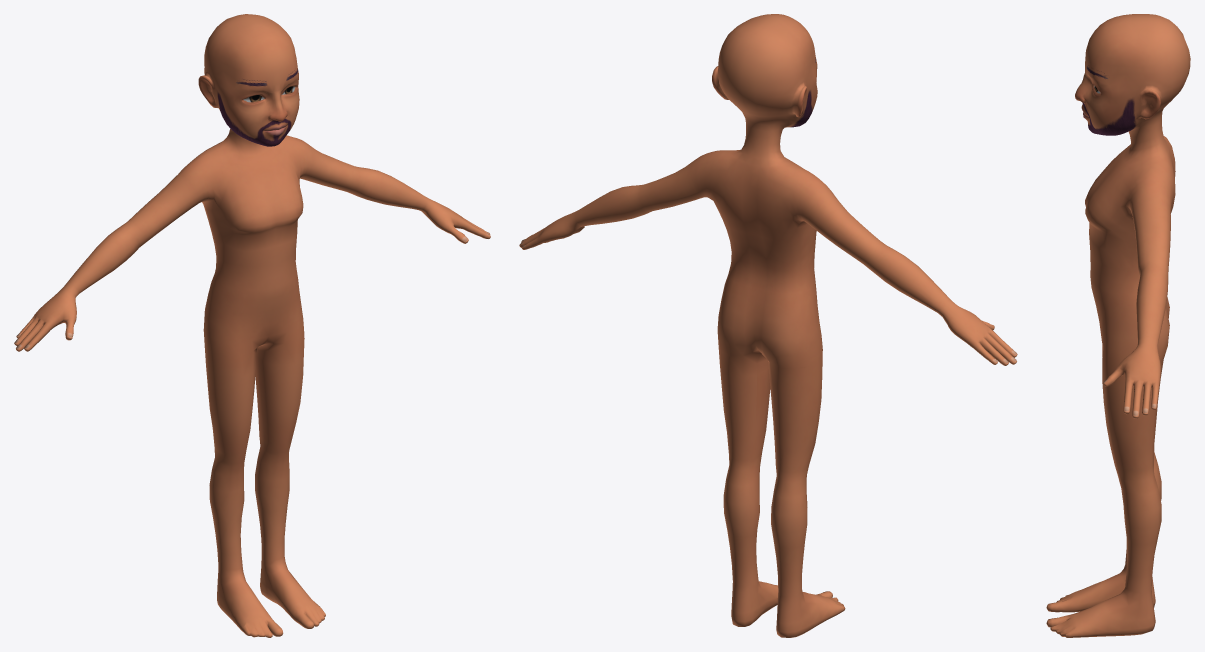
Rendered from frame_0044.glb.
3 renders of one model, left to right at view 1: azimuth 30°, elevation 25°; view 2: azimuth 150°, elevation 25°; view 3: azimuth 270°, elevation 25°, orthographic. The views are drawn at different scales.
Parts seen in each view (by area): view 1: frame_0044_head_geo; view 2: frame_0044_head_geo; view 3: frame_0044_head_geo.
Boxes of the visible parts, x1,y1,x2,y2 form: frame_0044_head_geo: (14,14,490,637); frame_0044_head_geo: (519,14,1017,637); frame_0044_head_geo: (1046,14,1190,637).
Size of the model in its own units: 1.28 by 1.5 by 0.3253.
Materials: 3 (3 with a texture image).
